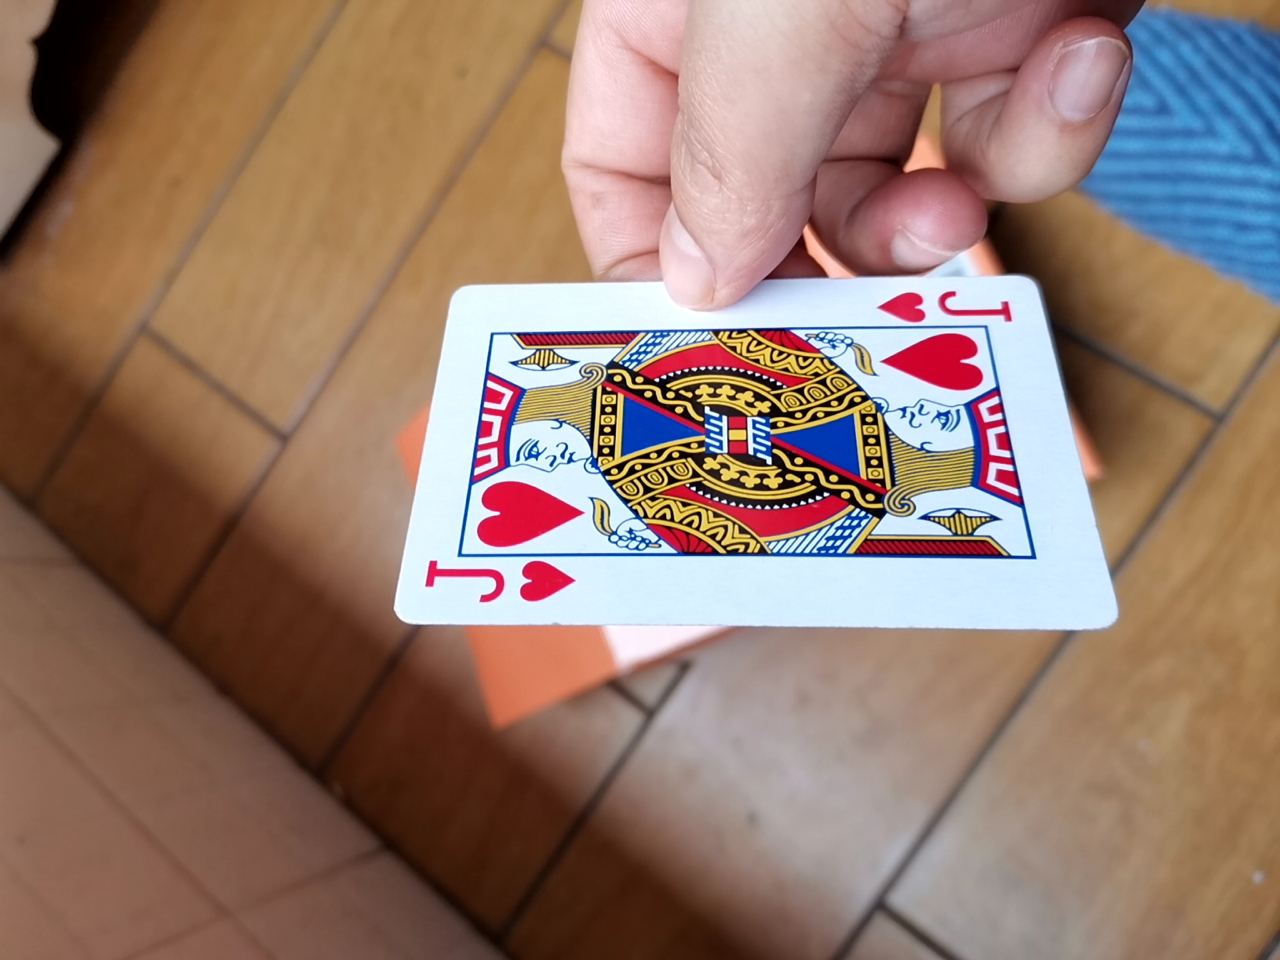hx j: (382, 255, 1132, 658)
